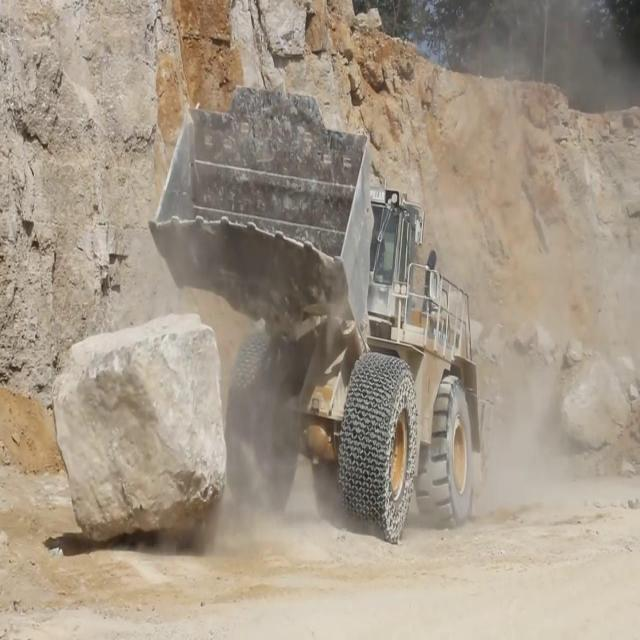Loader: (148, 84, 494, 543)
